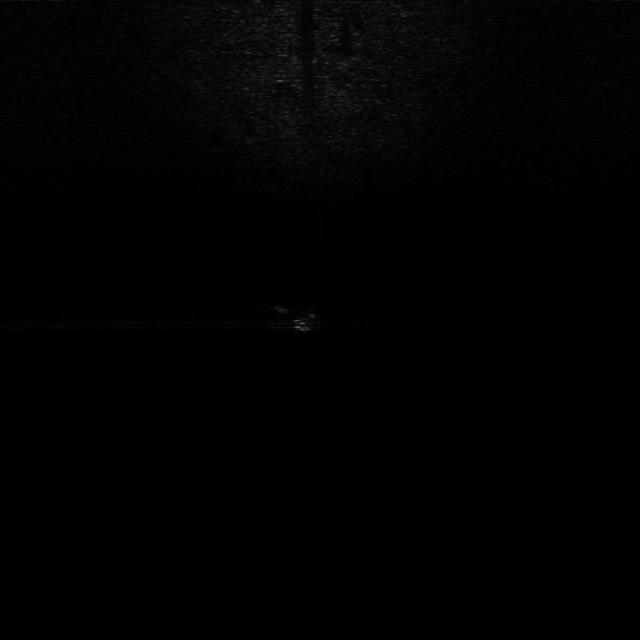human body: (257, 296, 323, 335)
